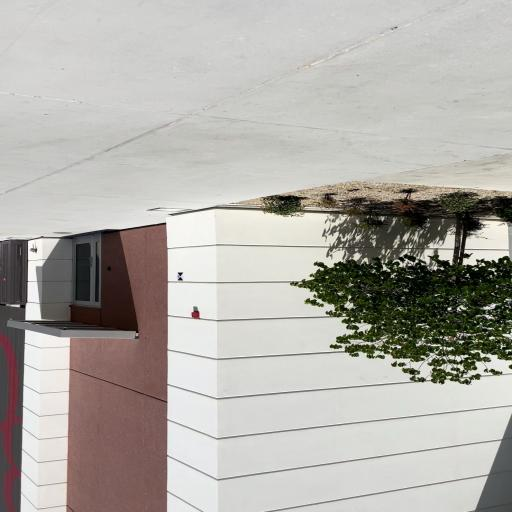target6: (177, 272, 183, 280)
